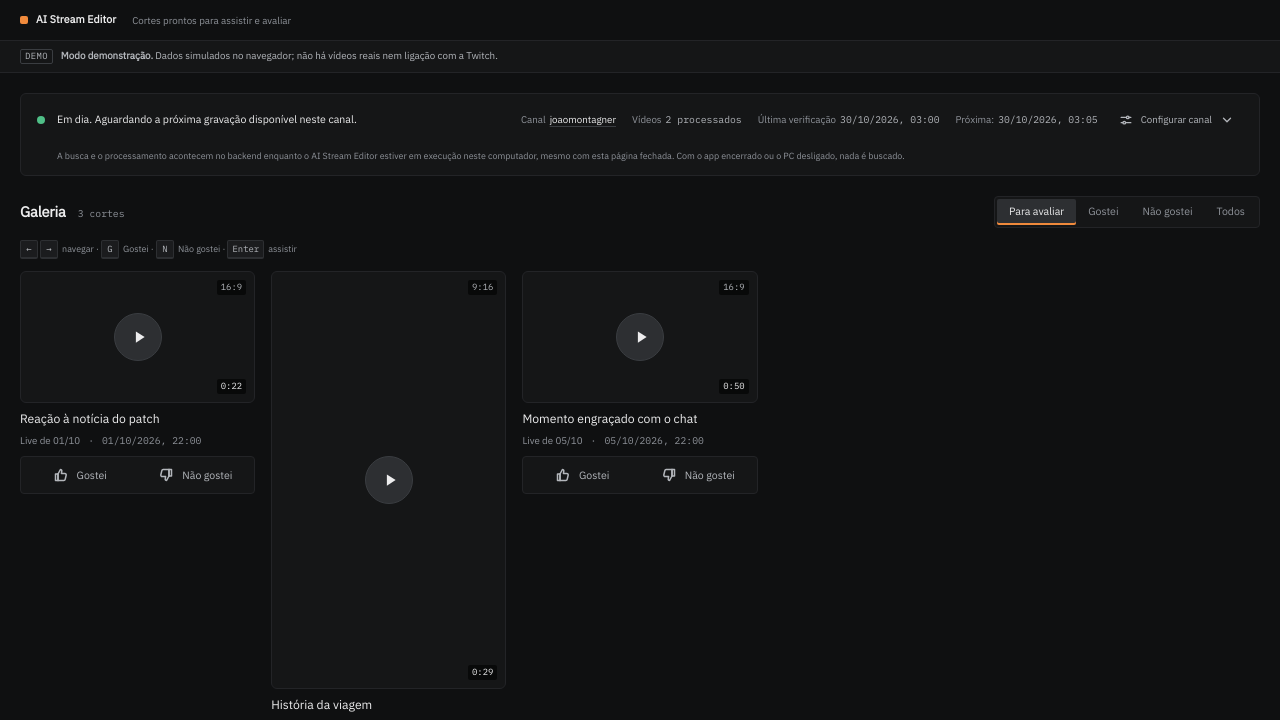
Test: Galeria: cortes e avaliação › monta só um player por vez
Click the button named "Assistir Reação à notícia do patch" at (138,337), box [21,272,254,402]
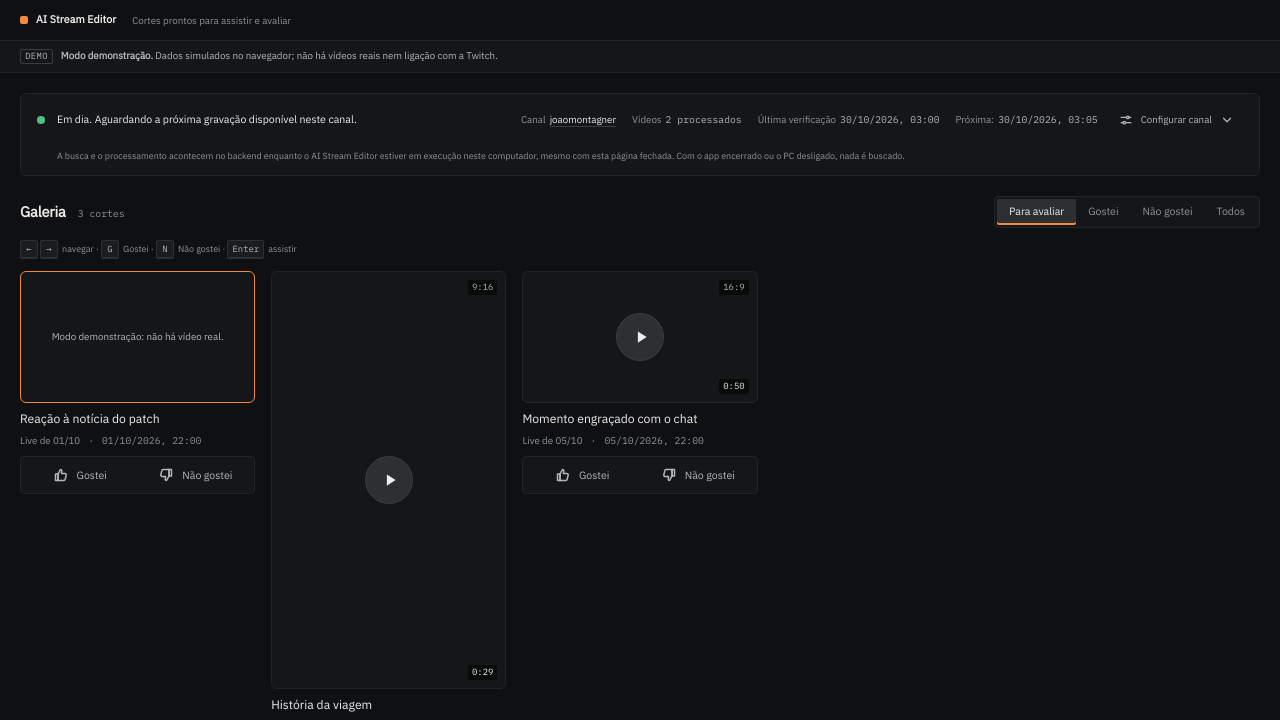
Click the button named "Assistir História da viagem" at (389,480), box [272,272,505,688]
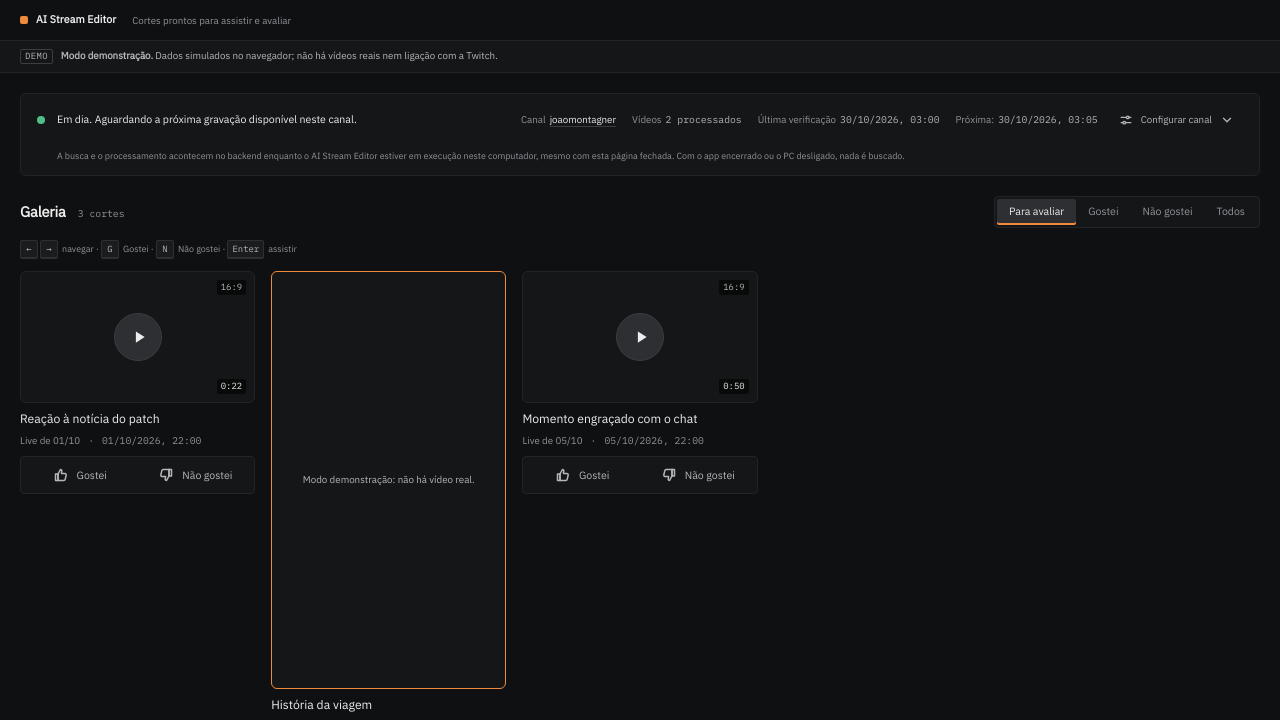
Now the text "Modo demonstração: não há vídeo real." is shown once, box [303,473,475,486]
Now the button named "Assistir Reação à notícia do patch" is shown, box [21,272,254,402]
